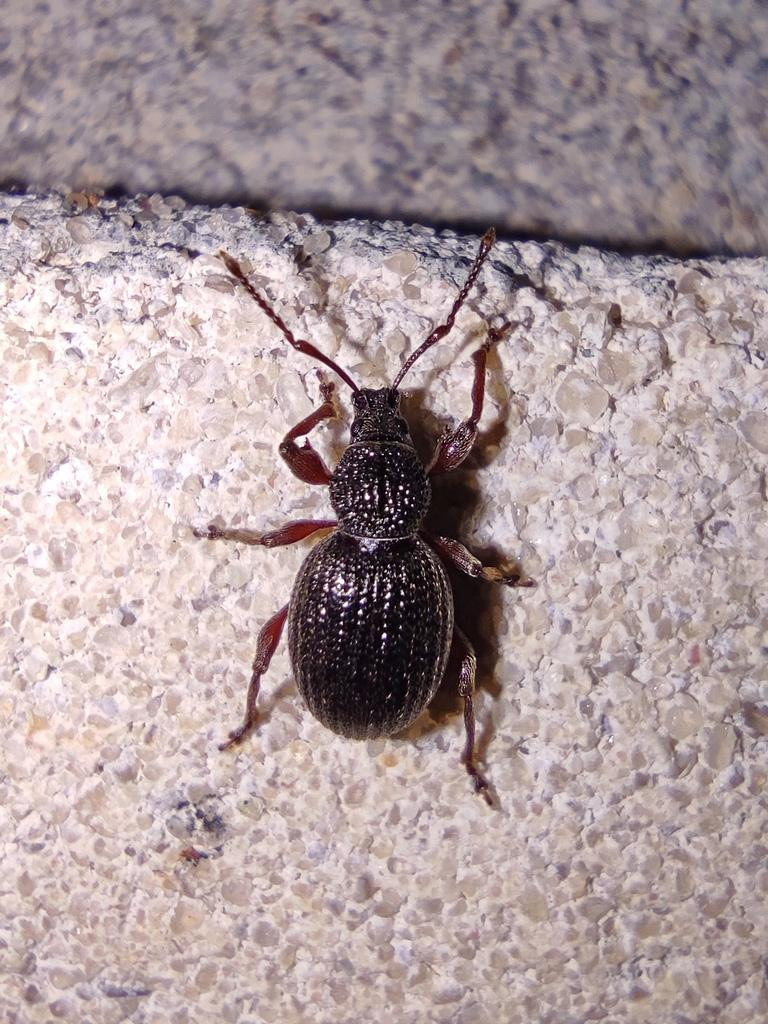weevils: (140, 184, 611, 851)
